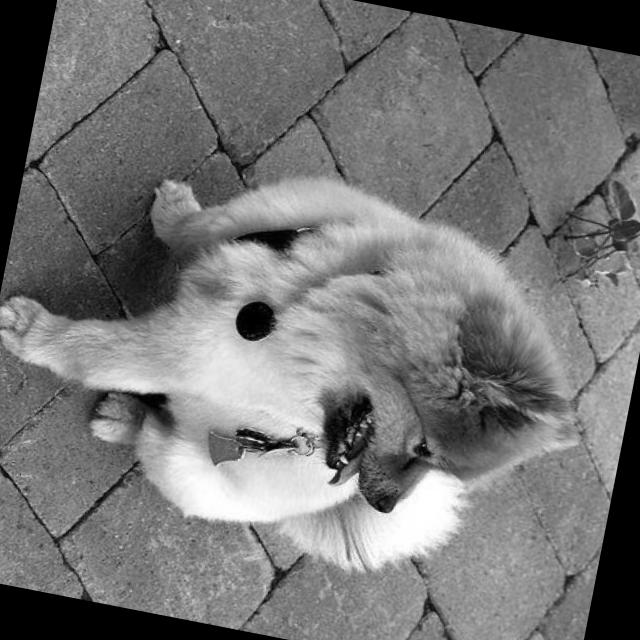sitting: (0, 117, 618, 614)
